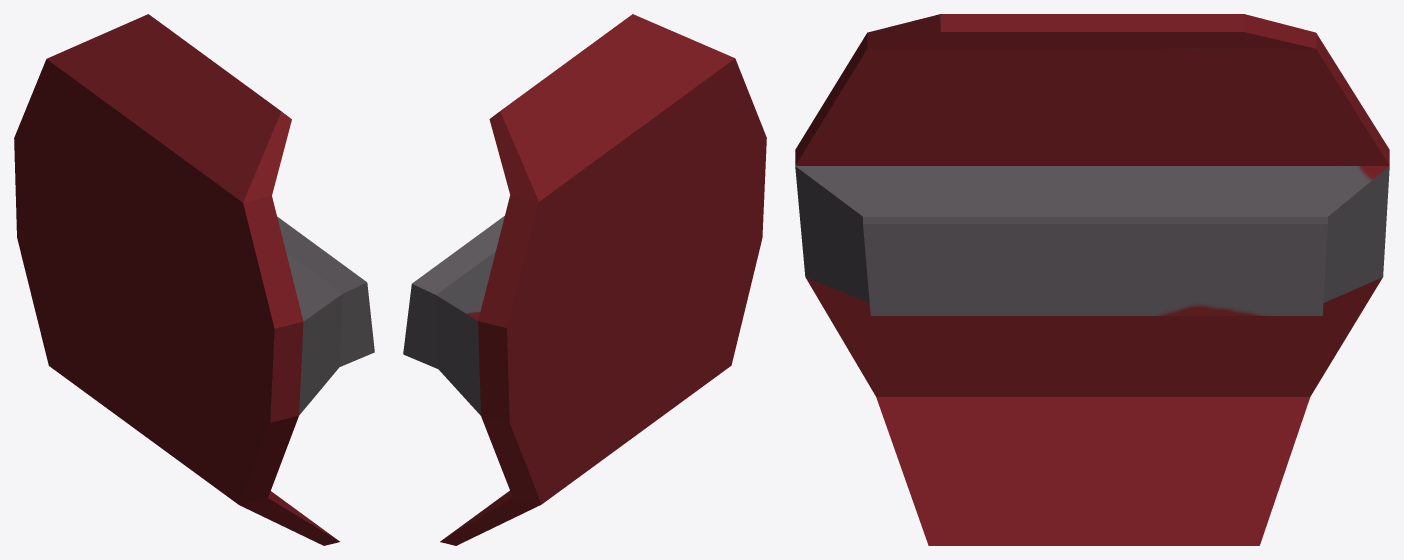
File: BotArm.obj
The picture shows the model from 3 angles, left to right: view 1: azimuth 30°, elevation 25°; view 2: azimuth 150°, elevation 25°; view 3: azimuth 270°, elevation 25°; orthographic projection. The views are drawn at different scales.
Parts seen in each view (by area): view 1: Arms_Cube.005; view 2: Arms_Cube.005; view 3: Arms_Cube.005.
Part boxes in pixels (x1,y1,x2,y2): Arms_Cube.005: (14,14,374,545); Arms_Cube.005: (403,14,766,545); Arms_Cube.005: (795,14,1389,545).
Size of the model in its own units: 0.0435 by 0.137 by 0.1471.
Materials: 2 (2 with a texture image).
